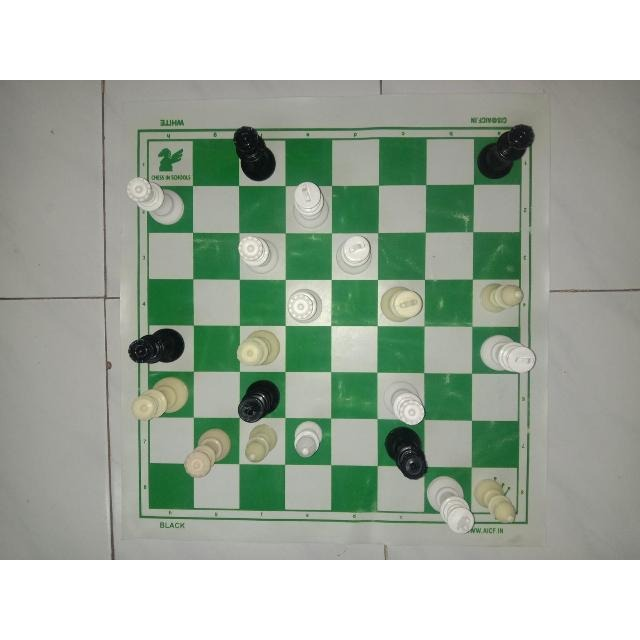black-king: (236, 377, 282, 421)
black-queen: (475, 120, 537, 182), (230, 123, 278, 183), (383, 426, 430, 482), (127, 326, 189, 366)
white-bishop: (477, 469, 521, 525), (242, 420, 280, 466), (479, 280, 524, 316), (293, 418, 329, 458)
white-king: (427, 472, 475, 535), (476, 331, 537, 376), (377, 283, 427, 325), (291, 181, 330, 229), (334, 233, 374, 275)
white-queen: (124, 174, 189, 227), (129, 370, 190, 423), (183, 426, 235, 478), (382, 380, 428, 426), (234, 326, 282, 368), (237, 234, 281, 276), (286, 286, 327, 326)
